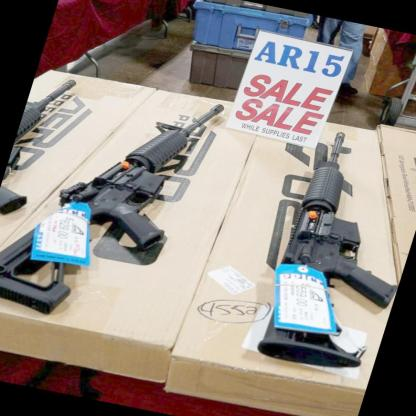rifle: (249, 124, 416, 381)
